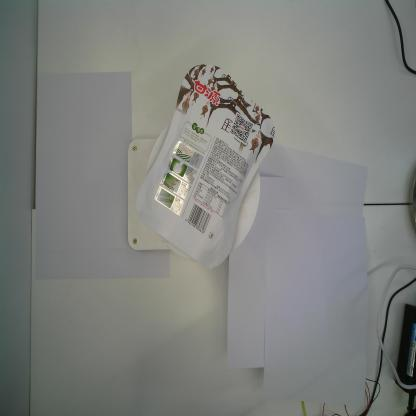Dried Fruit: (135, 60, 277, 270)
